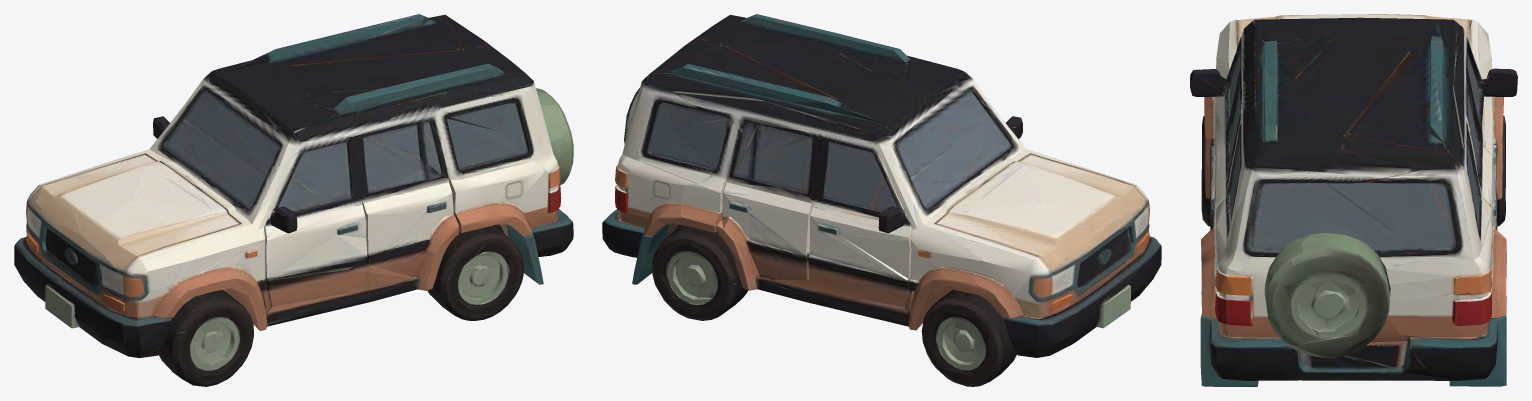
Rendered from suv.glb.
The picture shows the model from 3 angles, left to right: view 1: azimuth 30°, elevation 25°; view 2: azimuth 150°, elevation 25°; view 3: azimuth 270°, elevation 25°; orthographic projection. The views are drawn at different scales.
Bounding box in the file's own units: 1.9 × 0.8616 × 0.9266.
1 material, 1 textured.
